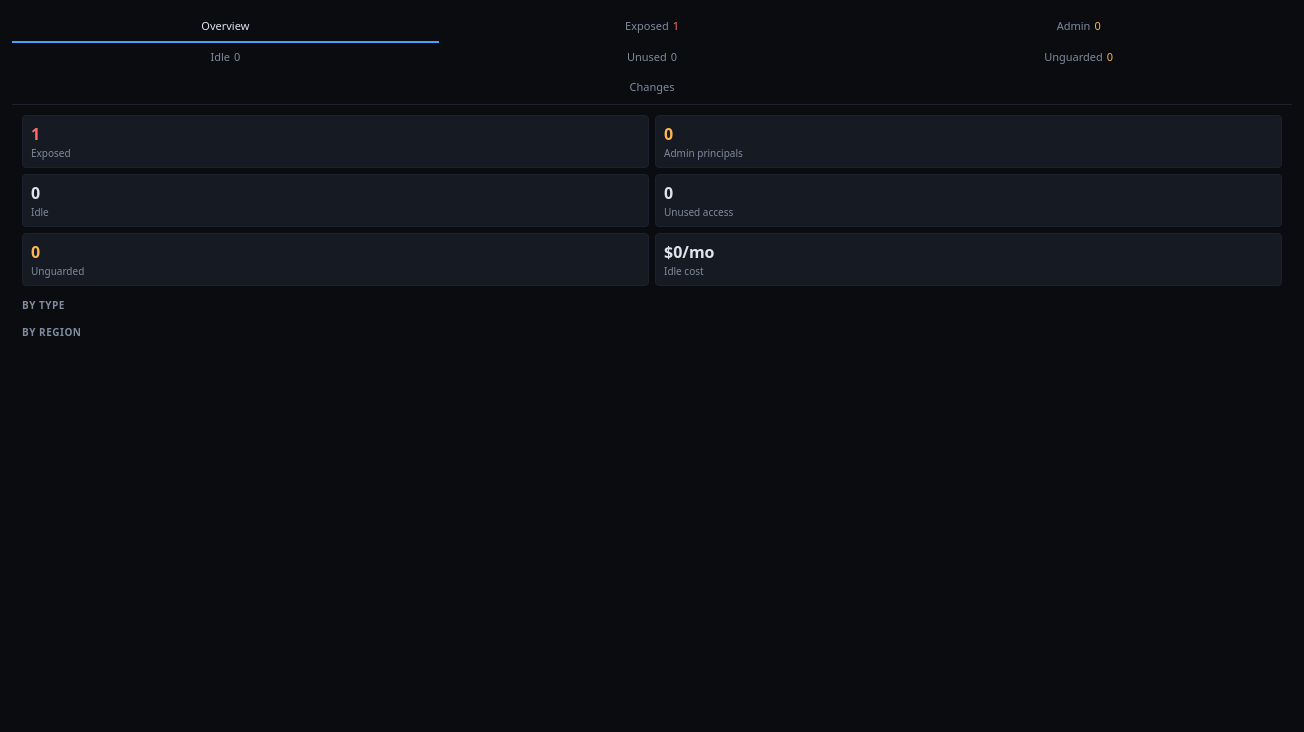
Scenario: Findings › loads past the first 50, dropping any row it already shows
Click the button "Idle0". click: (225, 58)
box: [12, 42, 439, 73]
(page scrolled)
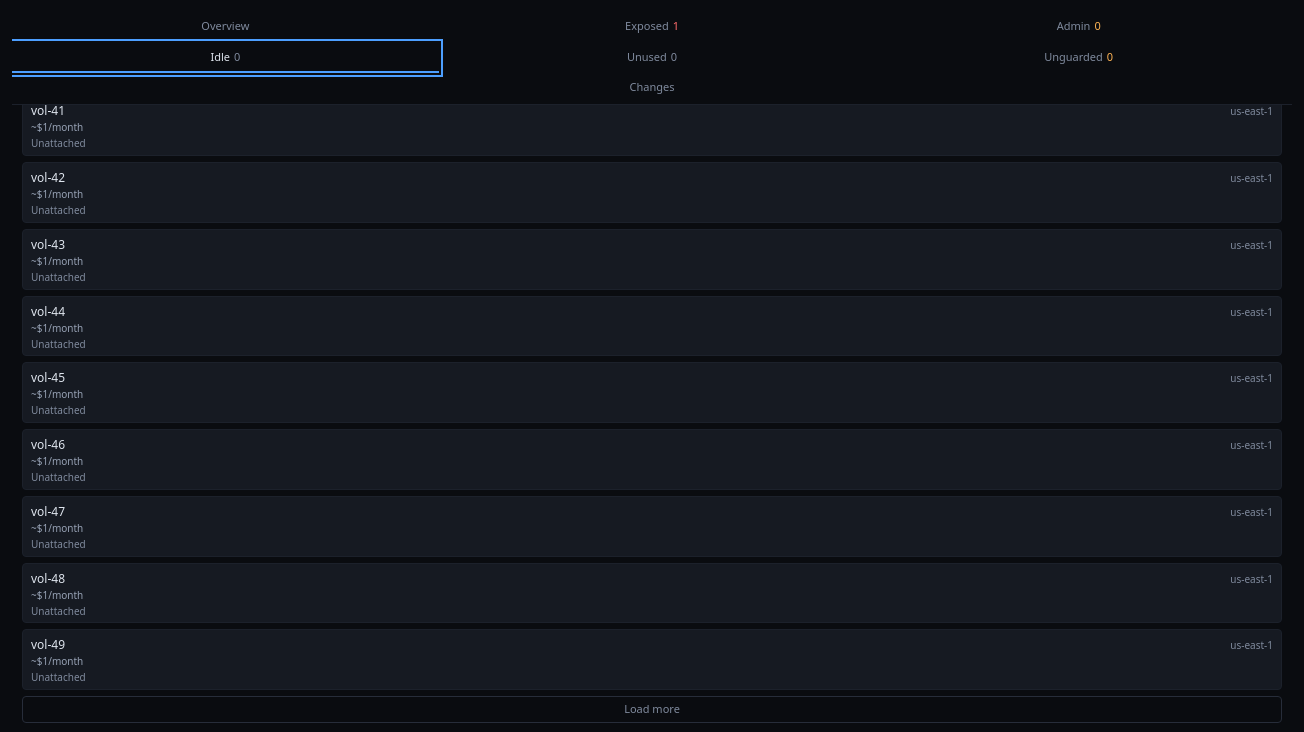
Click the button "Load more". click: (652, 709)
box: [22, 696, 1282, 722]
(page scrolled)
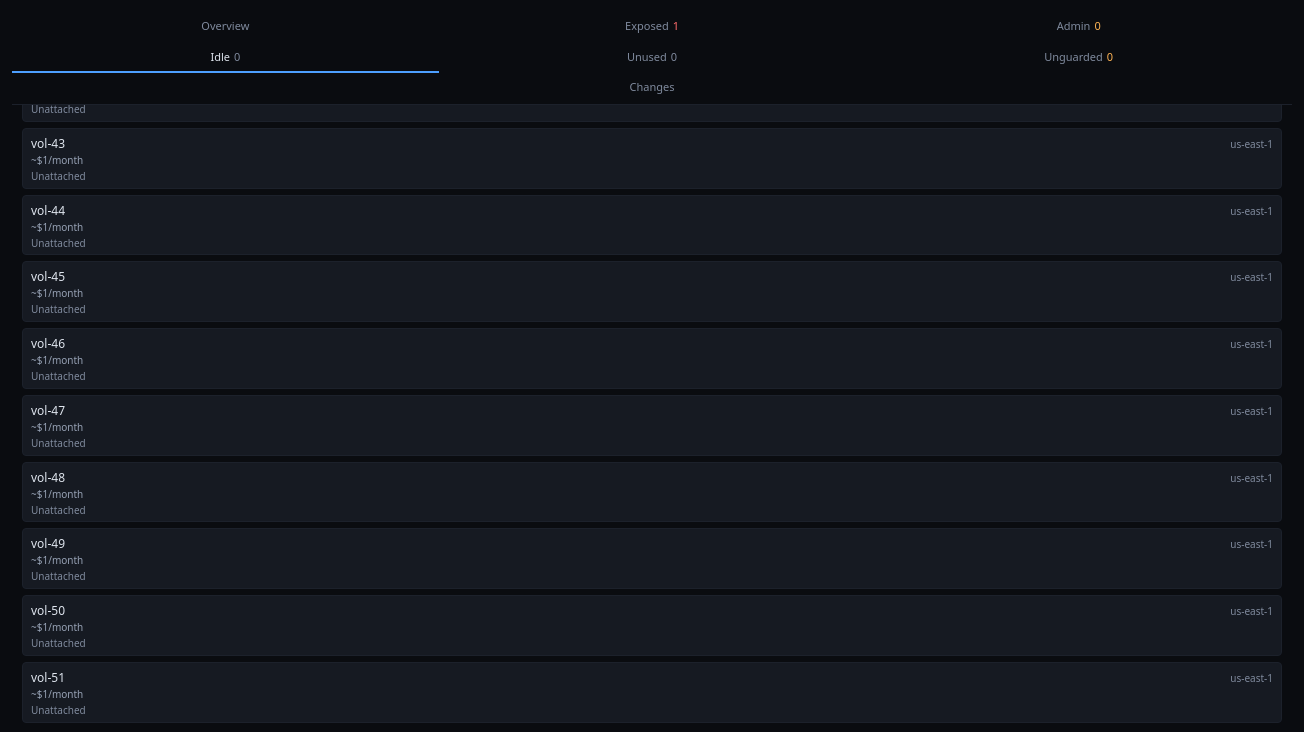
expect the text "vol-49" is shown once: met, box [31, 535, 65, 553]
expect the text "vol-51" is shown: met, box [31, 669, 65, 687]
expect the button "Load more" is gone: met
